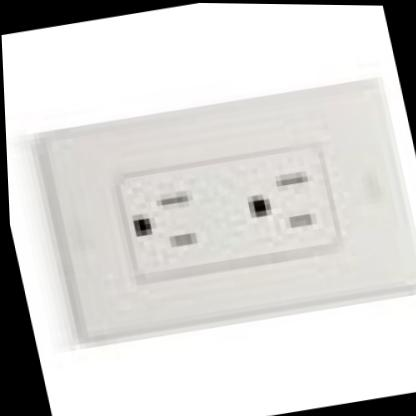OUTLET: (23, 58, 416, 348)
